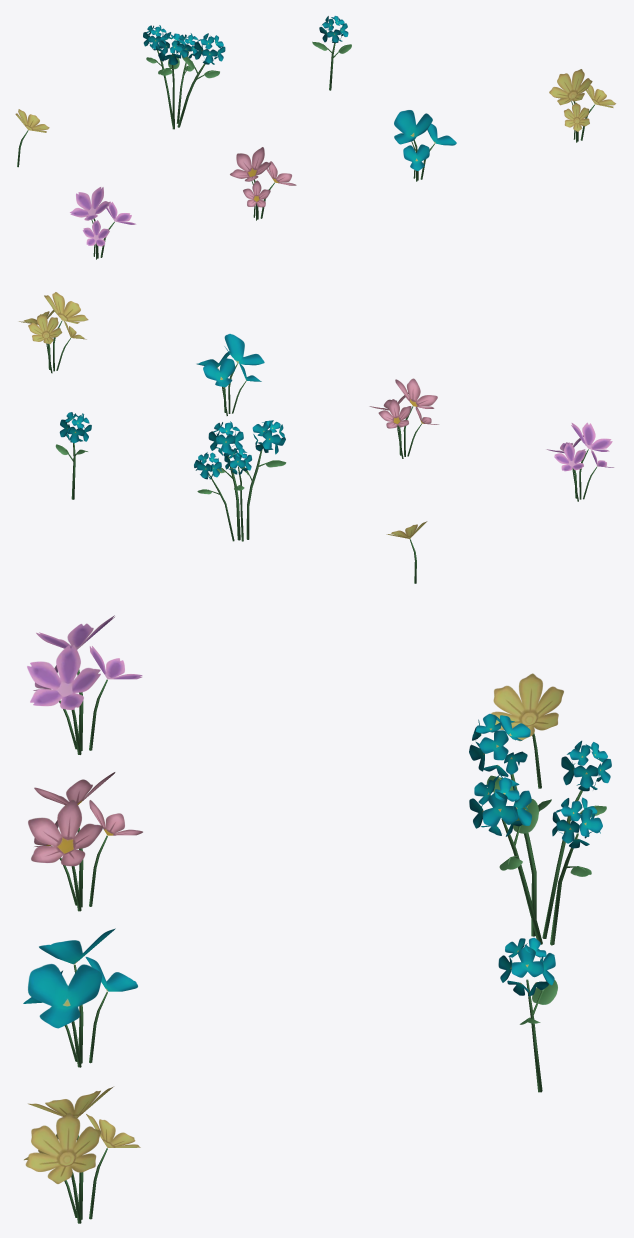
File: flowers.glb
3 renders of one model, top to bottom at view 1: azimuth 30°, elevation 25°; view 2: azimuth 150°, elevation 25°; view 3: azimuth 270°, elevation 25°, orthographic. The views are drawn at different scales.
Parts seen in each view (by area): view 1: Flower_1_Clump, Flower_2_Clump, Flower_3_Clump, Flower_4_Clump, Flower_5_Clump, Flower_1, Flower_2; view 2: Flower_1_Clump, Flower_2_Clump, Flower_3_Clump, Flower_4_Clump, Flower_5_Clump, Flower_1; view 3: Flower_1_Clump, Flower_2_Clump, Flower_3_Clump, Flower_4_Clump, Flower_5_Clump, Flower_2, Flower_1.
Part boxes in pixels (x1=…): Flower_1_Clump: x1=143, y1=25, x2=225, y2=129; Flower_2_Clump: x1=549, y1=69, x2=616, y2=142; Flower_3_Clump: x1=394, y1=110, x2=456, y2=181; Flower_4_Clump: x1=230, y1=147, x2=296, y2=220; Flower_5_Clump: x1=70, y1=187, x2=135, y2=259; Flower_1: x1=312, y1=15, x2=351, y2=90; Flower_2: x1=15, y1=109, x2=49, y2=167; Flower_1_Clump: x1=194, y1=420, x2=286, y2=541; Flower_2_Clump: x1=19, y1=292, x2=88, y2=373; Flower_3_Clump: x1=196, y1=334, x2=264, y2=415; Flower_4_Clump: x1=369, y1=378, x2=438, y2=458; Flower_5_Clump: x1=546, y1=422, x2=614, y2=501; Flower_1: x1=55, y1=412, x2=91, y2=499; Flower_1_Clump: x1=469, y1=713, x2=611, y2=945; Flower_2_Clump: x1=24, y1=1086, x2=140, y2=1223; Flower_3_Clump: x1=23, y1=928, x2=137, y2=1067; Flower_4_Clump: x1=28, y1=772, x2=142, y2=911; Flower_5_Clump: x1=27, y1=615, x2=142, y2=754; Flower_2: x1=491, y1=673, x2=563, y2=788; Flower_1: x1=498, y1=937, x2=557, y2=1092.
Bounding box in the file's own units: 3.59 × 0.6742 × 1.71.
Materials: 1 (1 with a texture image).
